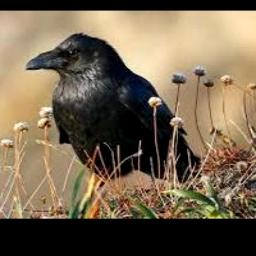Crow: (26, 32, 201, 185)
